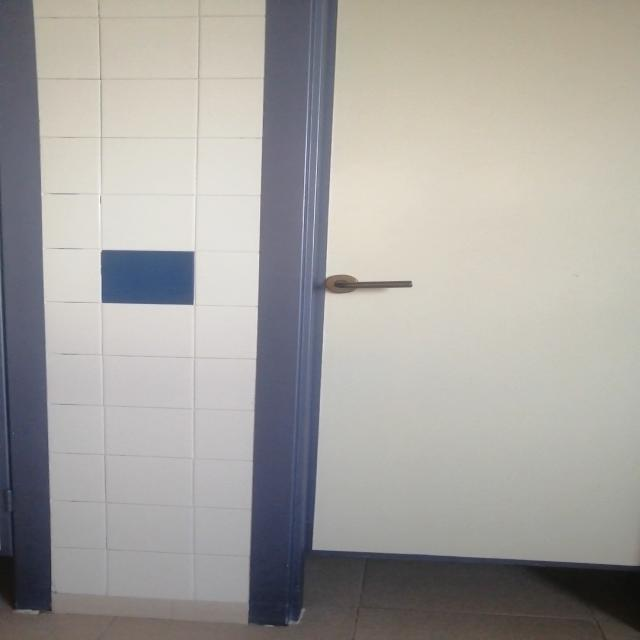door_handle: (332, 279, 417, 290)
